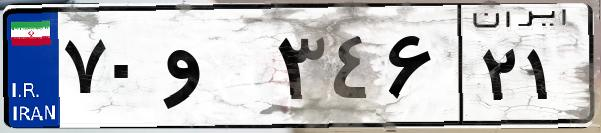0: (110, 28, 158, 98)
1: (525, 38, 570, 115)
2: (475, 38, 525, 113)
3: (270, 28, 330, 110)
4: (330, 28, 385, 110)
6: (385, 28, 445, 110)
7: (57, 26, 110, 100)
و: (158, 20, 270, 120)
